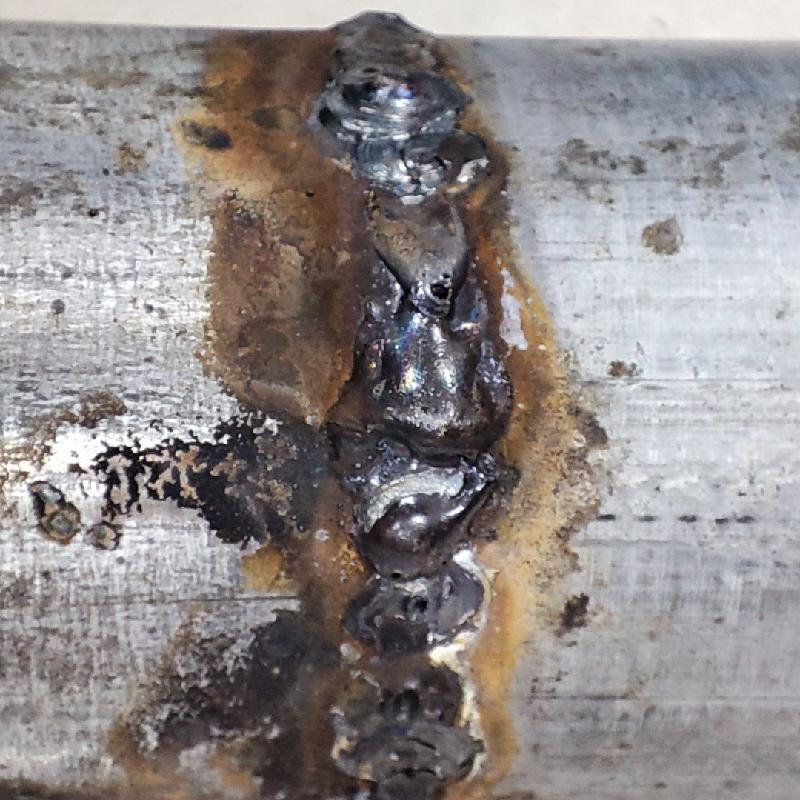Not_fully_soldered: (339, 577, 478, 796), (340, 139, 473, 315)
Surface_pores: (410, 264, 460, 307)
Weld: (328, 315, 508, 575)
wrong_size: (313, 10, 463, 143)
